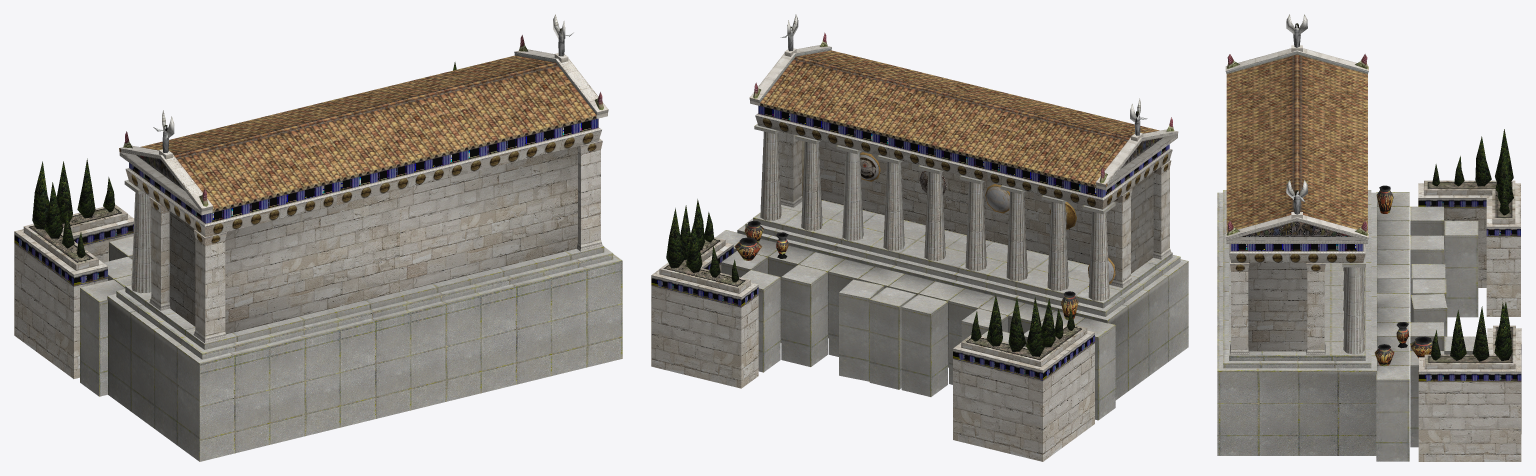
File: greek_stoa_great.glb
3 views of the same model, side by side, from view 1: azimuth 30°, elevation 25°; view 2: azimuth 150°, elevation 25°; view 3: azimuth 270°, elevation 25° (orthographic). The views are drawn at different scales.
Visible parts, largest first — view 1: greek_stoa_great_part0, greek_stoa_great_part4, greek_stoa_great_part3, greek_stoa_great_part1; view 2: greek_stoa_great_part0, greek_stoa_great_part4, greek_stoa_great_part3, greek_stoa_great_part1, greek_stoa_great_part2; view 3: greek_stoa_great_part0, greek_stoa_great_part4, greek_stoa_great_part3, greek_stoa_great_part1.
Part boxes in pixels (x1=…): greek_stoa_great_part0: x1=14, y1=49, x2=608, y2=378; greek_stoa_great_part4: x1=80, y1=180, x2=622, y2=461; greek_stoa_great_part3: x1=24, y1=14, x2=603, y2=293; greek_stoa_great_part1: x1=32, y1=62, x2=456, y2=257; greek_stoa_great_part0: x1=651, y1=45, x2=1178, y2=461; greek_stoa_great_part4: x1=715, y1=124, x2=1188, y2=420; greek_stoa_great_part3: x1=660, y1=14, x2=1174, y2=361; greek_stoa_great_part1: x1=666, y1=199, x2=1074, y2=356; greek_stoa_great_part2: x1=860, y1=152, x2=1115, y2=283; greek_stoa_great_part0: x1=1225, y1=45, x2=1521, y2=461; greek_stoa_great_part4: x1=1217, y1=190, x2=1478, y2=461; greek_stoa_great_part3: x1=1226, y1=14, x2=1515, y2=366; greek_stoa_great_part1: x1=1431, y1=129, x2=1513, y2=361.
Size of the model in its own units: 6.5 by 4.34 by 4.44.
Materials: 5 (5 with a texture image).
